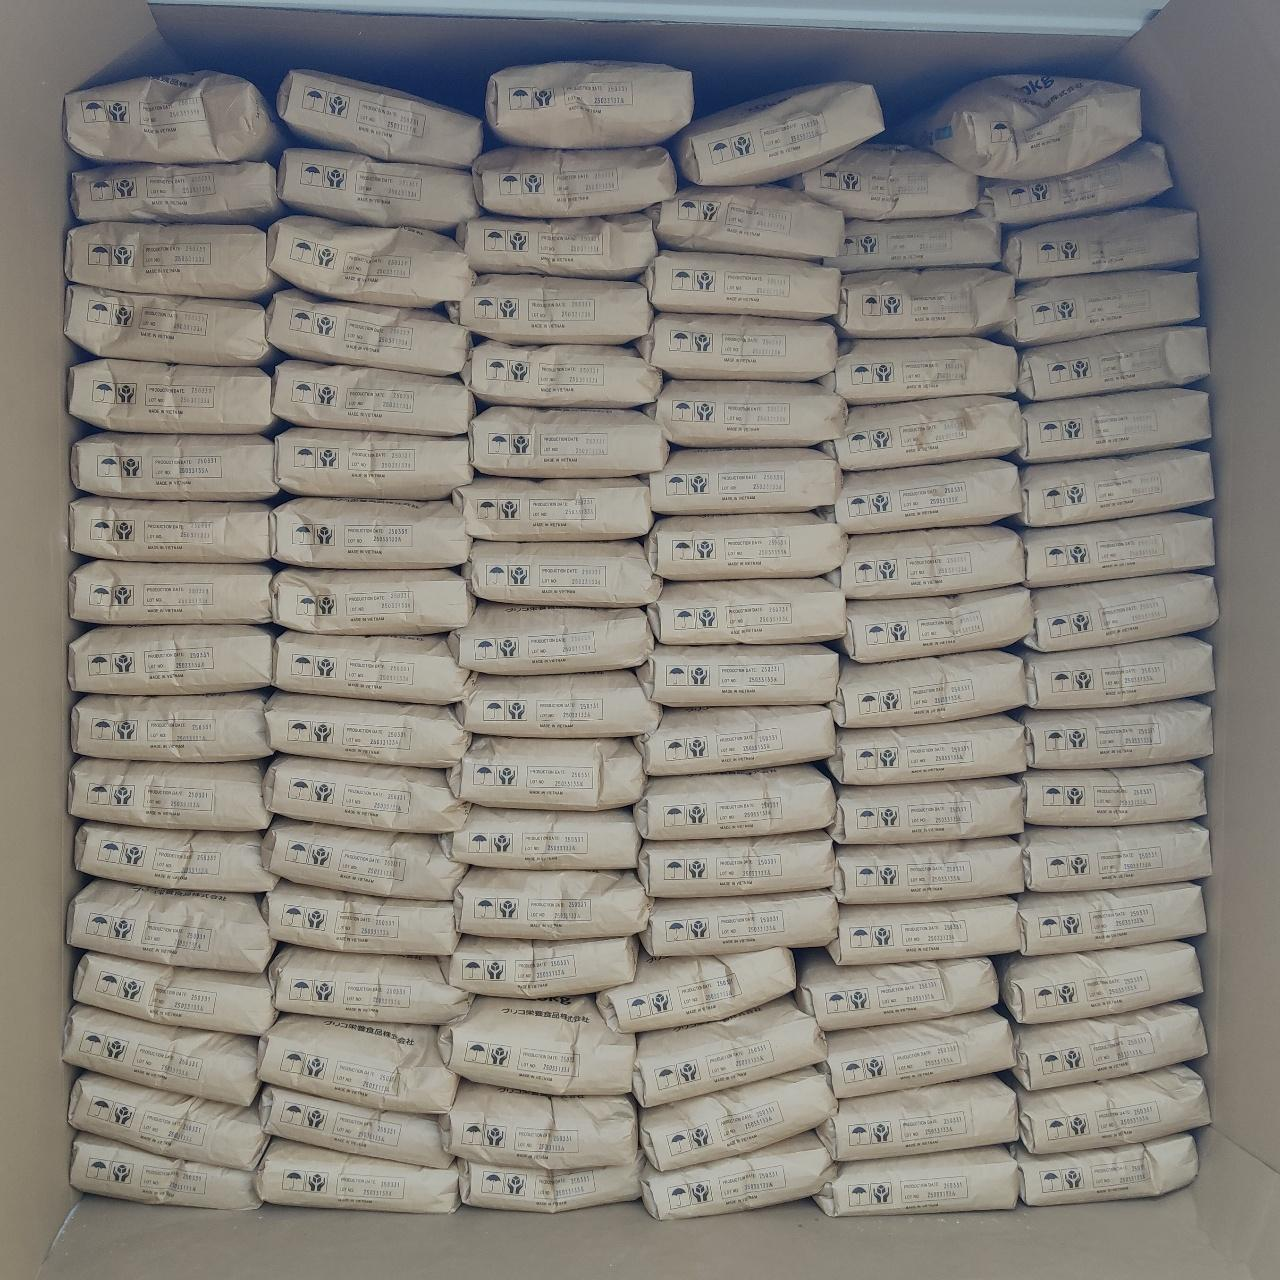sack: (900, 76, 1141, 176), (674, 84, 880, 182), (634, 998, 822, 1102), (640, 1068, 836, 1166), (280, 72, 482, 166), (66, 72, 282, 158), (440, 996, 632, 1094), (66, 1006, 258, 1102), (260, 1016, 454, 1110), (70, 1074, 266, 1166), (270, 216, 470, 304), (70, 880, 272, 966), (268, 288, 468, 374), (66, 284, 272, 365), (442, 1082, 636, 1166), (486, 64, 692, 144), (642, 1132, 832, 1218), (974, 144, 1170, 226), (1012, 1002, 1204, 1085), (74, 954, 274, 1034), (1017, 1065, 1206, 1150), (822, 1010, 1012, 1094), (1000, 942, 1198, 1022), (280, 150, 478, 230), (598, 949, 792, 1030), (821, 1078, 1016, 1158), (66, 224, 278, 297), (264, 818, 462, 896), (270, 946, 470, 1022), (260, 1085, 448, 1166), (1017, 450, 1212, 526), (264, 756, 464, 830), (256, 1138, 456, 1212), (268, 692, 468, 765), (274, 360, 472, 433), (70, 360, 274, 430), (796, 956, 996, 1028), (274, 629, 470, 702), (996, 272, 1198, 342), (70, 758, 268, 830), (636, 765, 830, 838), (832, 652, 1022, 726), (828, 459, 1020, 532), (1026, 574, 1214, 648), (72, 433, 275, 501), (1016, 390, 1210, 462), (264, 881, 454, 954), (448, 274, 651, 342), (821, 399, 1020, 468), (1002, 207, 1198, 278), (72, 1132, 258, 1206), (275, 428, 470, 498), (651, 186, 842, 258), (450, 602, 651, 670), (474, 147, 674, 215), (816, 1146, 1016, 1214), (842, 588, 1030, 660), (272, 498, 470, 566), (76, 822, 274, 890), (1024, 515, 1212, 586), (832, 527, 1022, 598), (470, 408, 666, 476), (448, 738, 644, 806), (642, 250, 838, 318), (636, 706, 832, 774), (1017, 328, 1206, 399), (72, 692, 270, 758), (70, 626, 272, 692), (1017, 884, 1204, 954), (648, 380, 846, 445), (462, 340, 660, 406), (828, 716, 1026, 782), (636, 314, 835, 380), (1022, 638, 1212, 706), (464, 540, 660, 606), (74, 162, 280, 224), (794, 144, 974, 215), (646, 515, 846, 578), (456, 869, 648, 934), (638, 830, 832, 894), (1012, 1136, 1196, 1204), (821, 338, 1014, 402), (642, 890, 836, 954), (458, 215, 654, 278), (458, 672, 658, 734), (70, 496, 270, 558), (72, 560, 270, 622), (648, 448, 838, 512), (454, 476, 651, 538), (1020, 822, 1208, 886), (835, 838, 1022, 903), (830, 898, 1017, 962), (1020, 702, 1210, 765), (832, 778, 1022, 842), (274, 568, 470, 629), (445, 808, 638, 869), (442, 937, 636, 996), (835, 268, 1012, 334), (638, 644, 836, 702), (651, 580, 844, 638), (1022, 764, 1204, 822), (459, 1158, 640, 1210), (828, 216, 998, 270)
